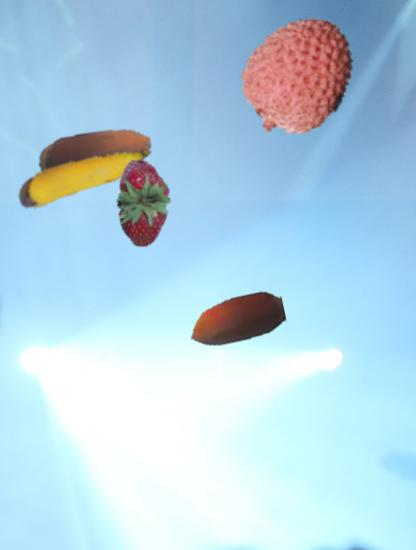Banana: (13, 101, 159, 247)
Hazelnut: (37, 99, 154, 216), (188, 270, 285, 367)
Lychee: (231, 11, 364, 144)
Strawberry: (100, 158, 190, 248)
